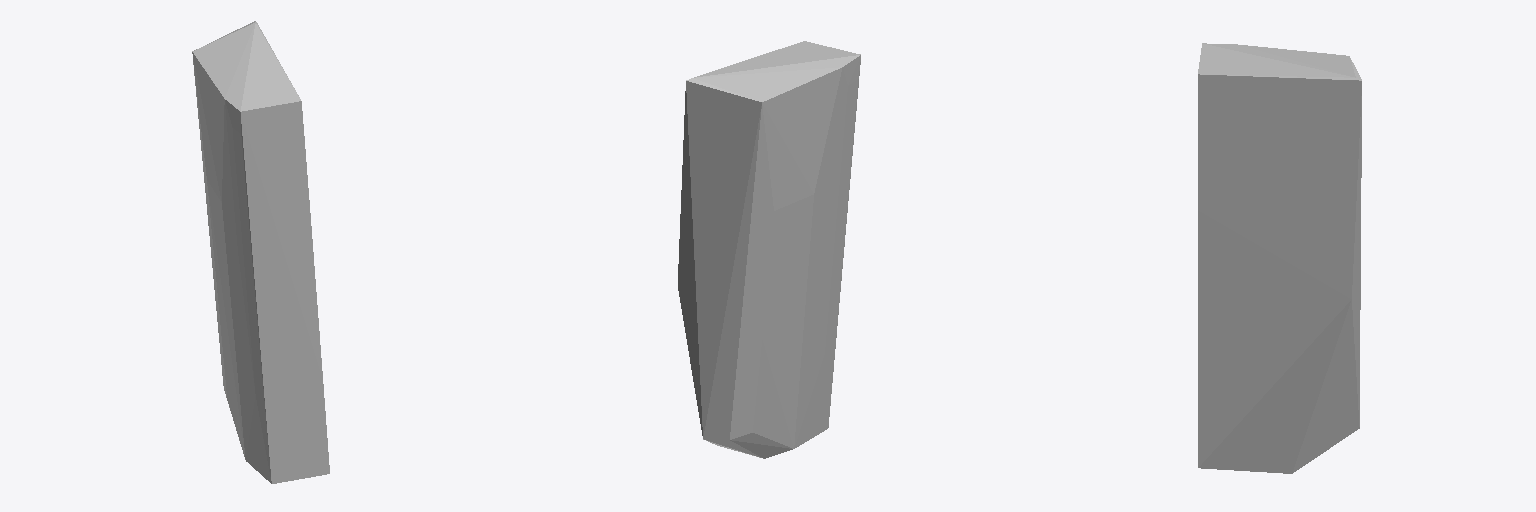
Rendered from trash_bin_collision_15.obj.
The picture shows the model from 3 angles: view 1: azimuth 30°, elevation 25°; view 2: azimuth 150°, elevation 25°; view 3: azimuth 270°, elevation 25°; orthographic projection.
Bounding box in the file's own units: 0.0339 × 0.117 × 0.0444.